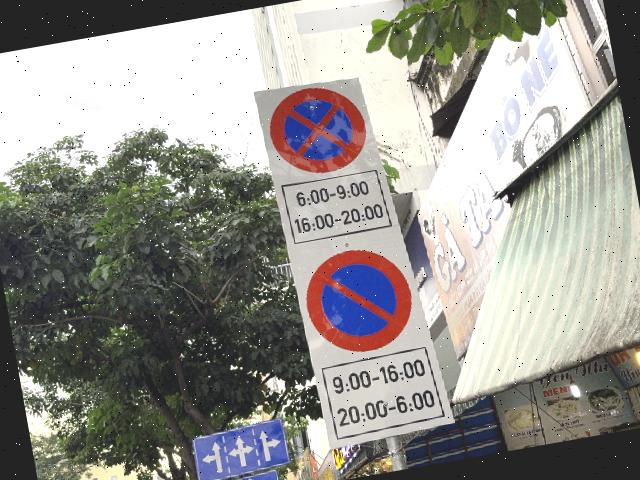cam-do-xe: (298, 240, 418, 360)
cam-dung-va-do-xe: (264, 79, 372, 181)
